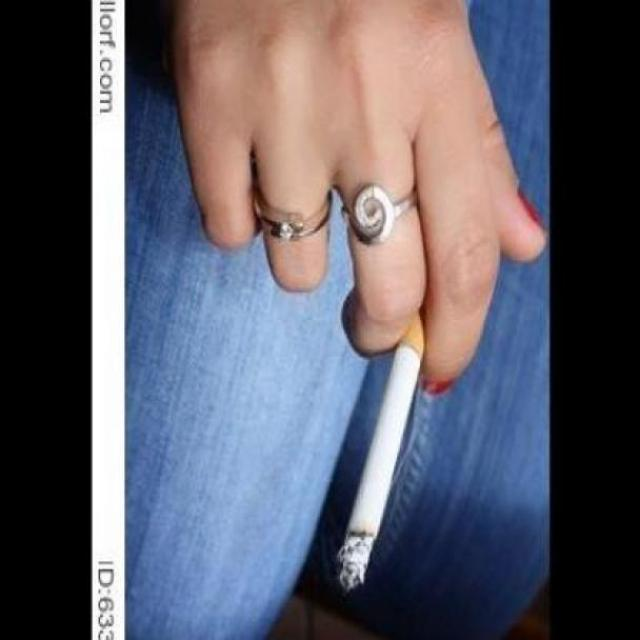rokok: (328, 298, 432, 600)
